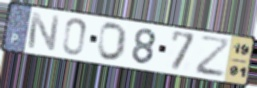0: (61, 16, 88, 56)
7: (170, 29, 197, 73)
8: (130, 28, 158, 66)
N: (25, 10, 61, 53)
O: (96, 22, 129, 63)
Z: (195, 34, 232, 79)
